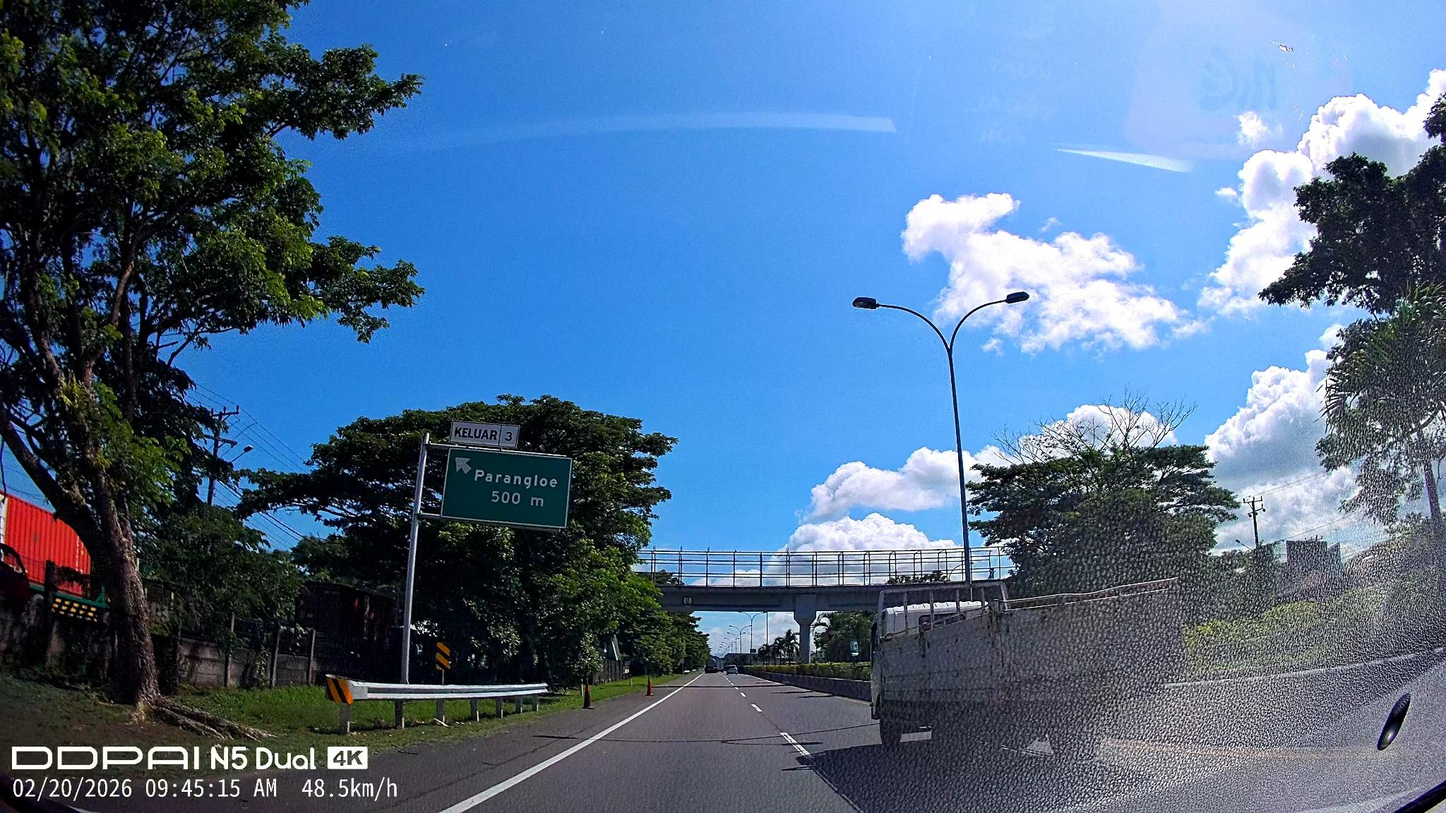rambu_teks: (437, 447, 573, 531)
